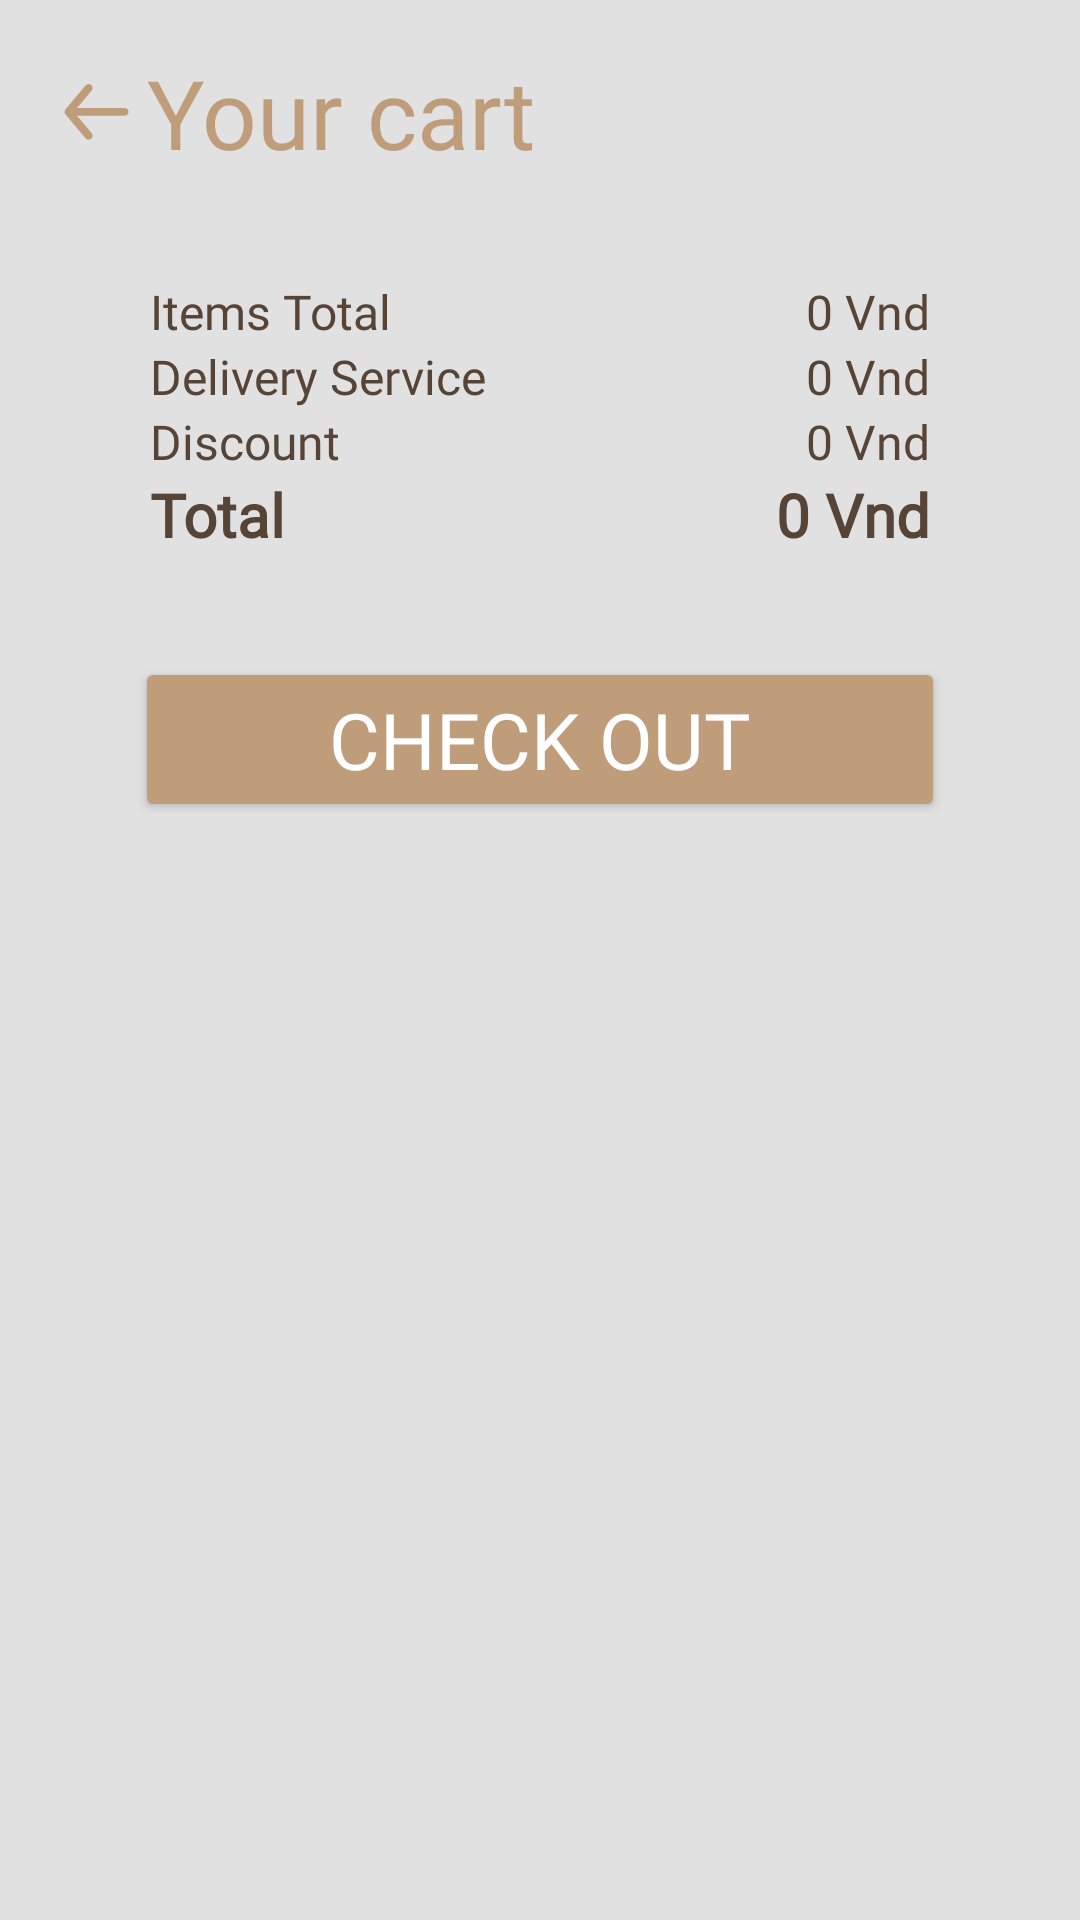

Named icons in this screenshot (1080px×1920px) and their bounding boxes, box(x1, y1, x2, y2):
back: box(64, 84, 129, 140)
